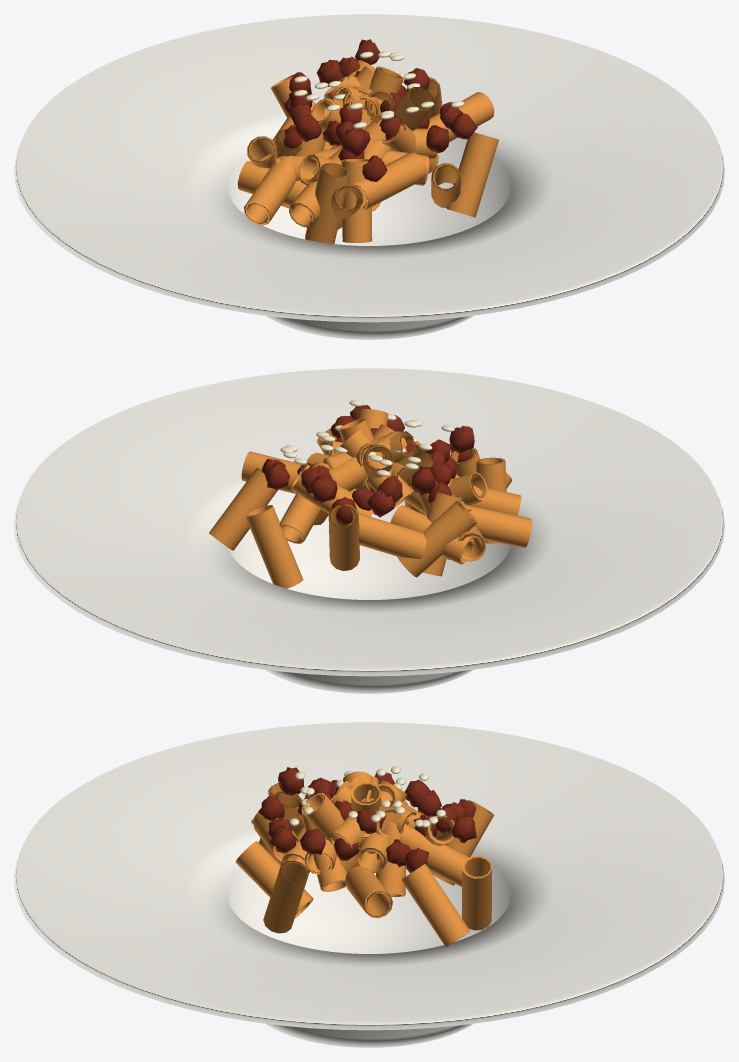
The model's file is penne-a-bolonhesa.glb.
The picture shows the model from 3 angles, top to bottom: view 1: azimuth 30°, elevation 25°; view 2: azimuth 150°, elevation 25°; view 3: azimuth 270°, elevation 25°; orthographic projection.
Visible parts, largest first — view 1: penne-a-bolonhesa; view 2: penne-a-bolonhesa; view 3: penne-a-bolonhesa.
Part boxes in pixels (<box>): penne-a-bolonhesa: <box>14,14,724,339</box>; penne-a-bolonhesa: <box>14,368,724,693</box>; penne-a-bolonhesa: <box>14,722,724,1047</box>.
Bounding box in the file's own units: 0.28 × 0.0942 × 0.28.
